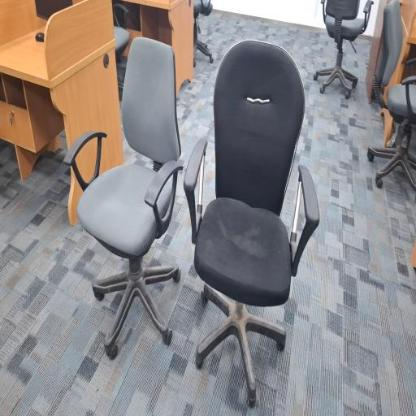chair: (176, 34, 325, 411), (56, 29, 186, 361)
